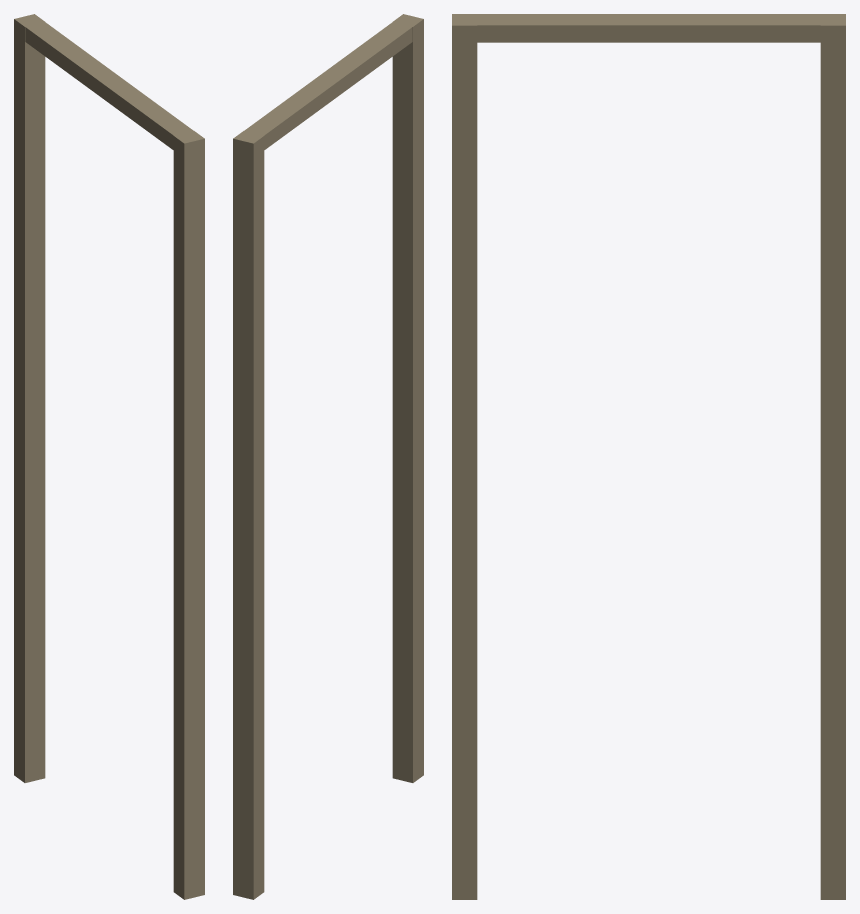
Rendered from 77_TEXAS_Frame.glb.
3 renders of one model, left to right at view 1: azimuth 30°, elevation 25°; view 2: azimuth 150°, elevation 25°; view 3: azimuth 270°, elevation 25°, orthographic. The views are drawn at different scales.
Visible parts, largest first — view 1: 77_TEXAS_Frame; view 2: 77_TEXAS_Frame; view 3: 77_TEXAS_Frame.
Boxes of the visible parts, x1,y1,x2,y2 form: 77_TEXAS_Frame: [14, 14, 204, 899]; 77_TEXAS_Frame: [233, 14, 423, 899]; 77_TEXAS_Frame: [452, 14, 845, 899].
Size of the model in its own units: 0.0638 by 2.25 by 0.9168.
